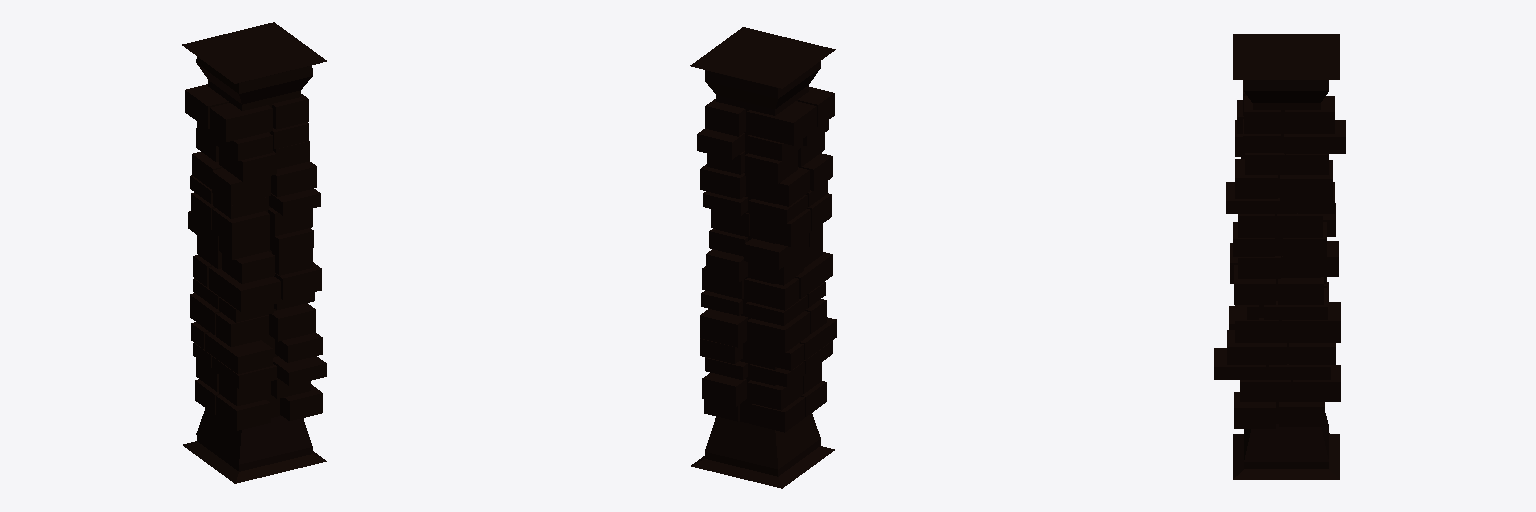
Rendered from wall.obj.
3 views of the same model, side by side, from view 1: azimuth 30°, elevation 25°; view 2: azimuth 150°, elevation 25°; view 3: azimuth 270°, elevation 25° (orthographic).
Visible parts, largest first — view 1: Cube.040; view 2: Cube.040; view 3: Cube.040.
Part boxes in pixels (bbox=[...]): Cube.040: bbox=[182, 22, 326, 483]; Cube.040: bbox=[690, 27, 836, 488]; Cube.040: bbox=[1214, 34, 1345, 479].
Size of the model in its own units: 3.77 by 14.92 by 4.48.